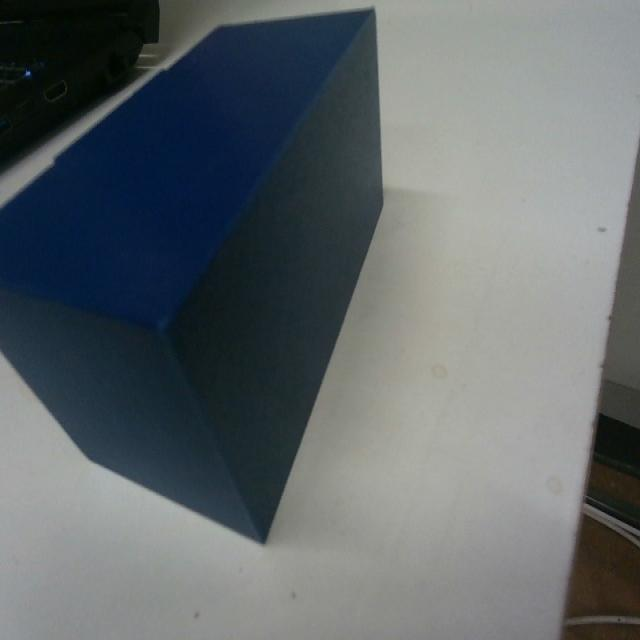Blue Cuboid: (0, 4, 386, 545)
